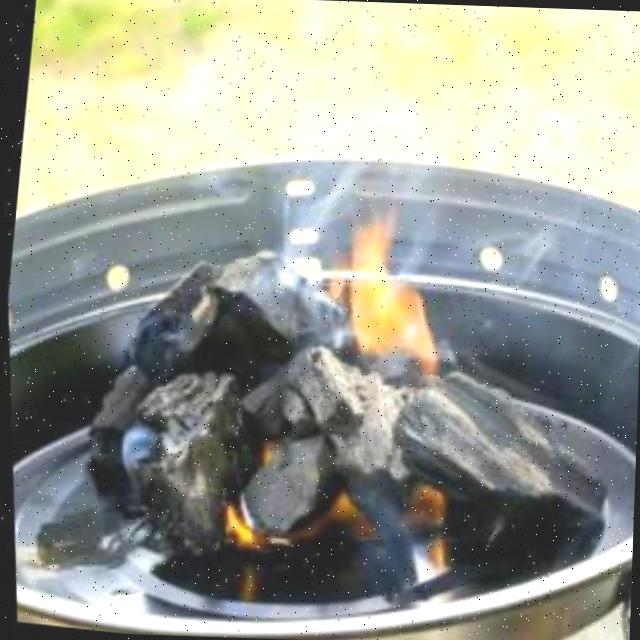fire: (311, 210, 458, 426)
